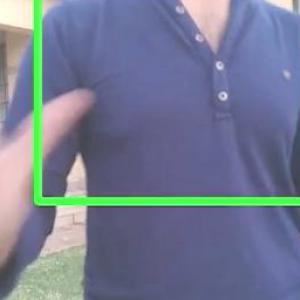land_hand: (0, 75, 102, 288)
